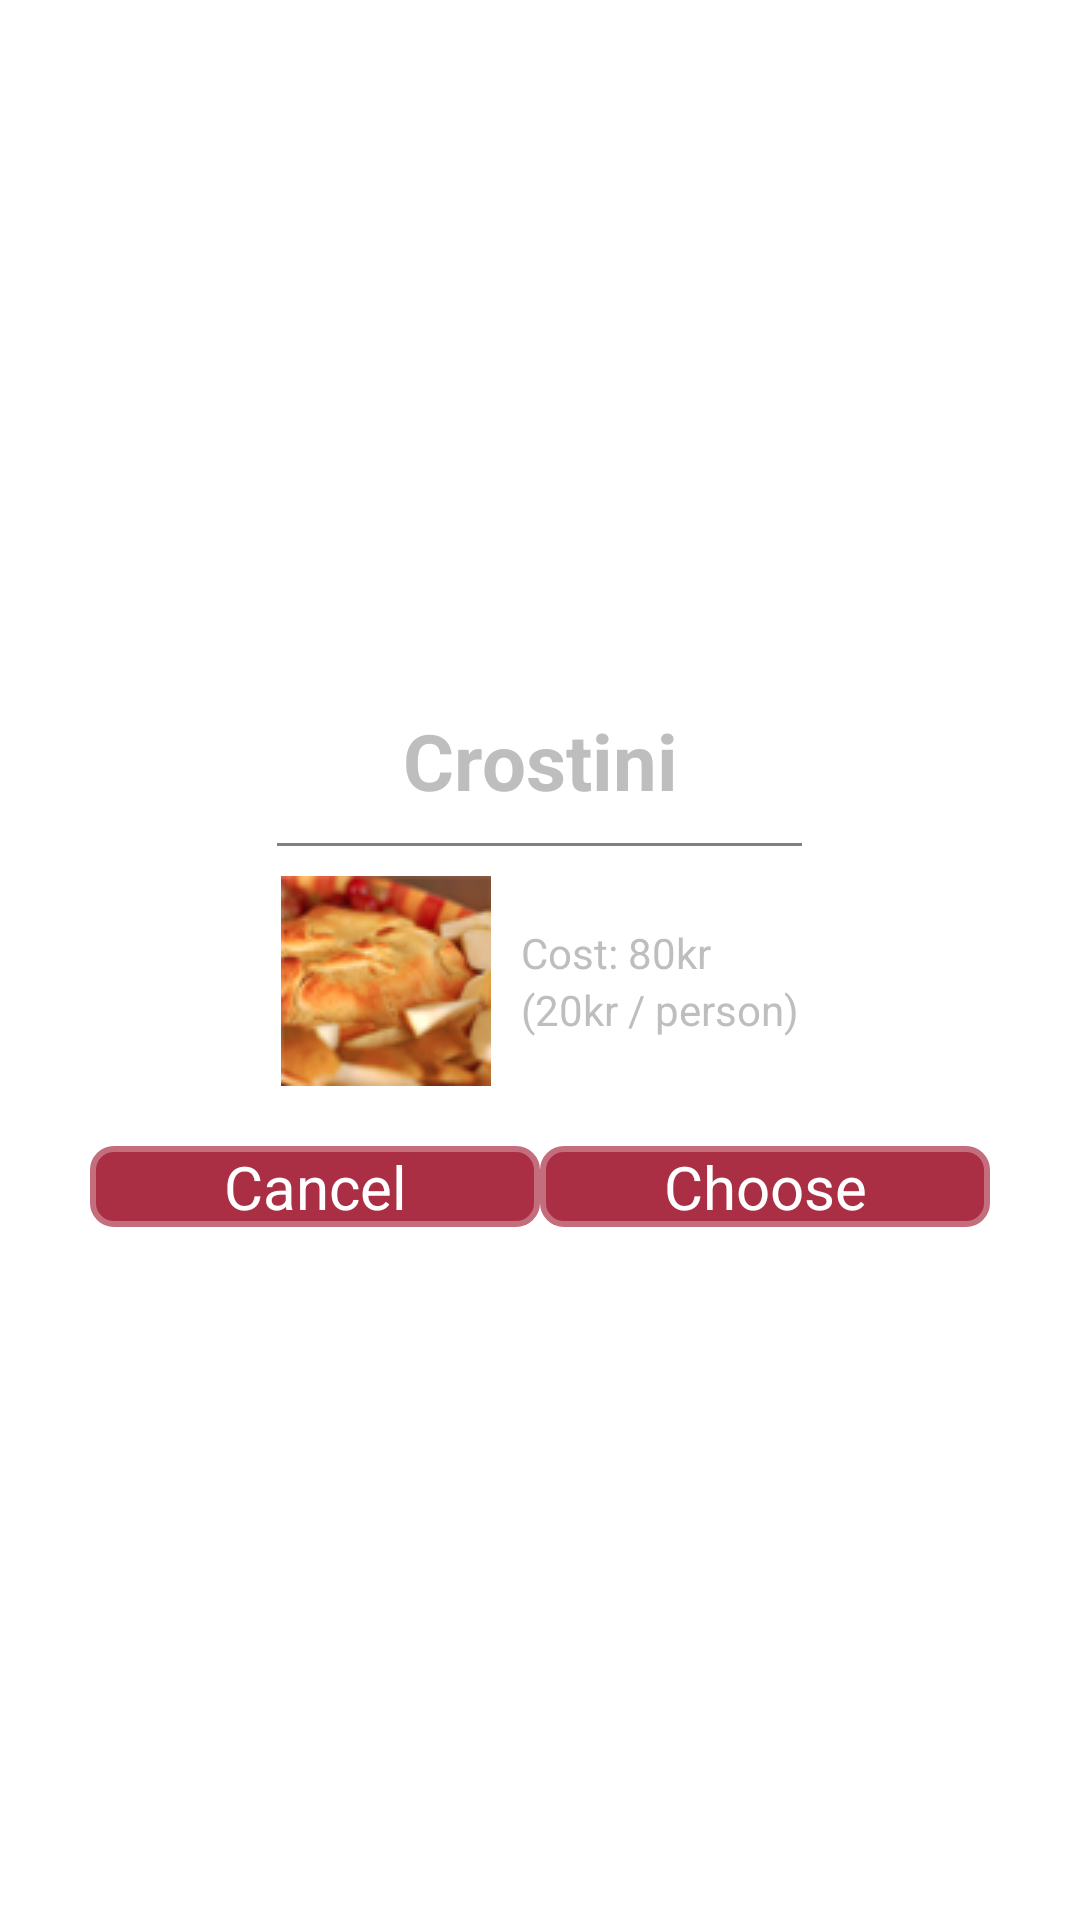

Icon click points for this 1080×1920 phone screenshot, format point (x, y):
bakedbrie: point (386, 981)
